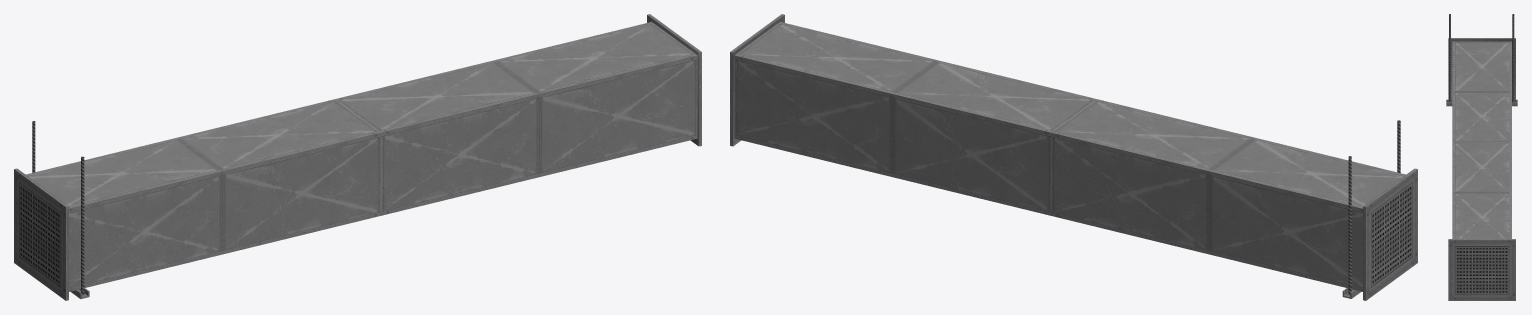
Rendered from HH_Ventilation_4m_01.fbx.
3 views of the same model, side by side, from view 1: azimuth 30°, elevation 25°; view 2: azimuth 150°, elevation 25°; view 3: azimuth 270°, elevation 25° (orthographic). The views are drawn at different scales.
Parts seen in each view (by area): view 1: HH_Ventilation_4m_01; view 2: HH_Ventilation_4m_01; view 3: HH_Ventilation_4m_01.
Part boxes in pixels (x1,y1,x2,y2): HH_Ventilation_4m_01: [14, 14, 701, 300]; HH_Ventilation_4m_01: [730, 14, 1417, 300]; HH_Ventilation_4m_01: [1446, 14, 1517, 300].
Size of the model in its own units: 400 by 83.44 by 59.65.
